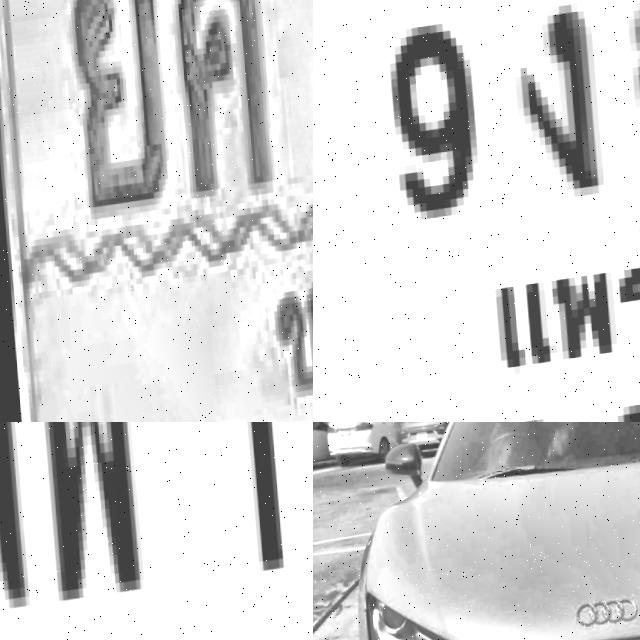license-plate: (313, 0, 640, 422), (0, 0, 313, 422), (0, 422, 313, 640), (414, 430, 428, 447), (338, 429, 351, 441)
